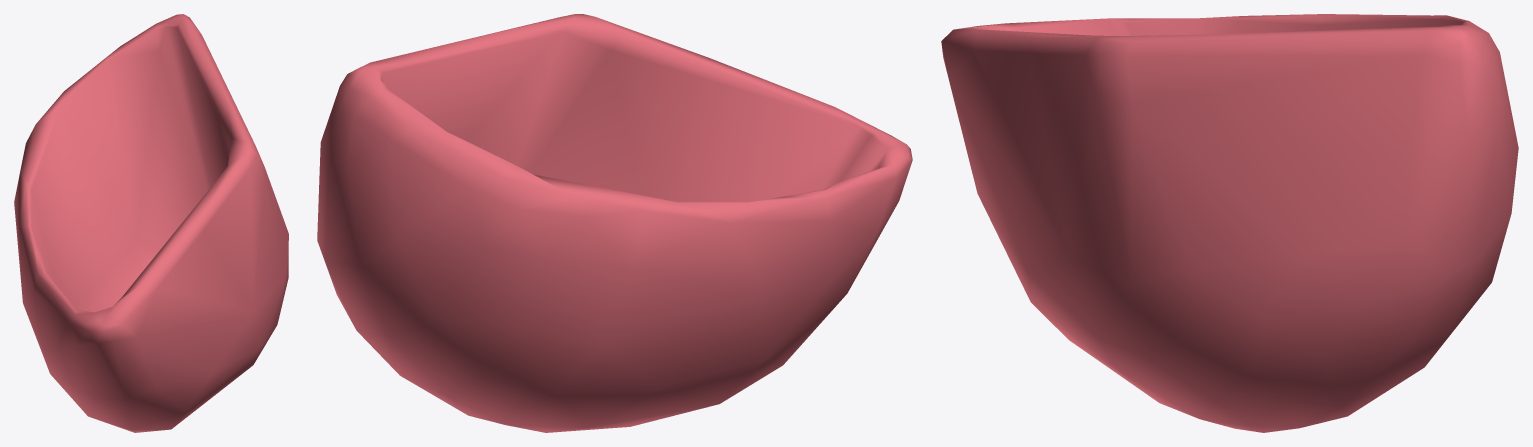
3 renders of one model, left to right at view 1: azimuth 30°, elevation 25°; view 2: azimuth 150°, elevation 25°; view 3: azimuth 270°, elevation 25°, orthographic. The views are drawn at different scales.
Parts seen in each view (by area): view 1: ZA_ba6f32c8bb6ecd12; view 2: ZA_ba6f32c8bb6ecd12; view 3: ZA_ba6f32c8bb6ecd12.
Boxes of the visible parts, x1,y1,x2,y2 form: ZA_ba6f32c8bb6ecd12: (14, 14, 288, 432); ZA_ba6f32c8bb6ecd12: (317, 14, 912, 432); ZA_ba6f32c8bb6ecd12: (941, 14, 1518, 432).
Size of the model in its own units: 0.0173 by 0.0165 by 0.0191.
